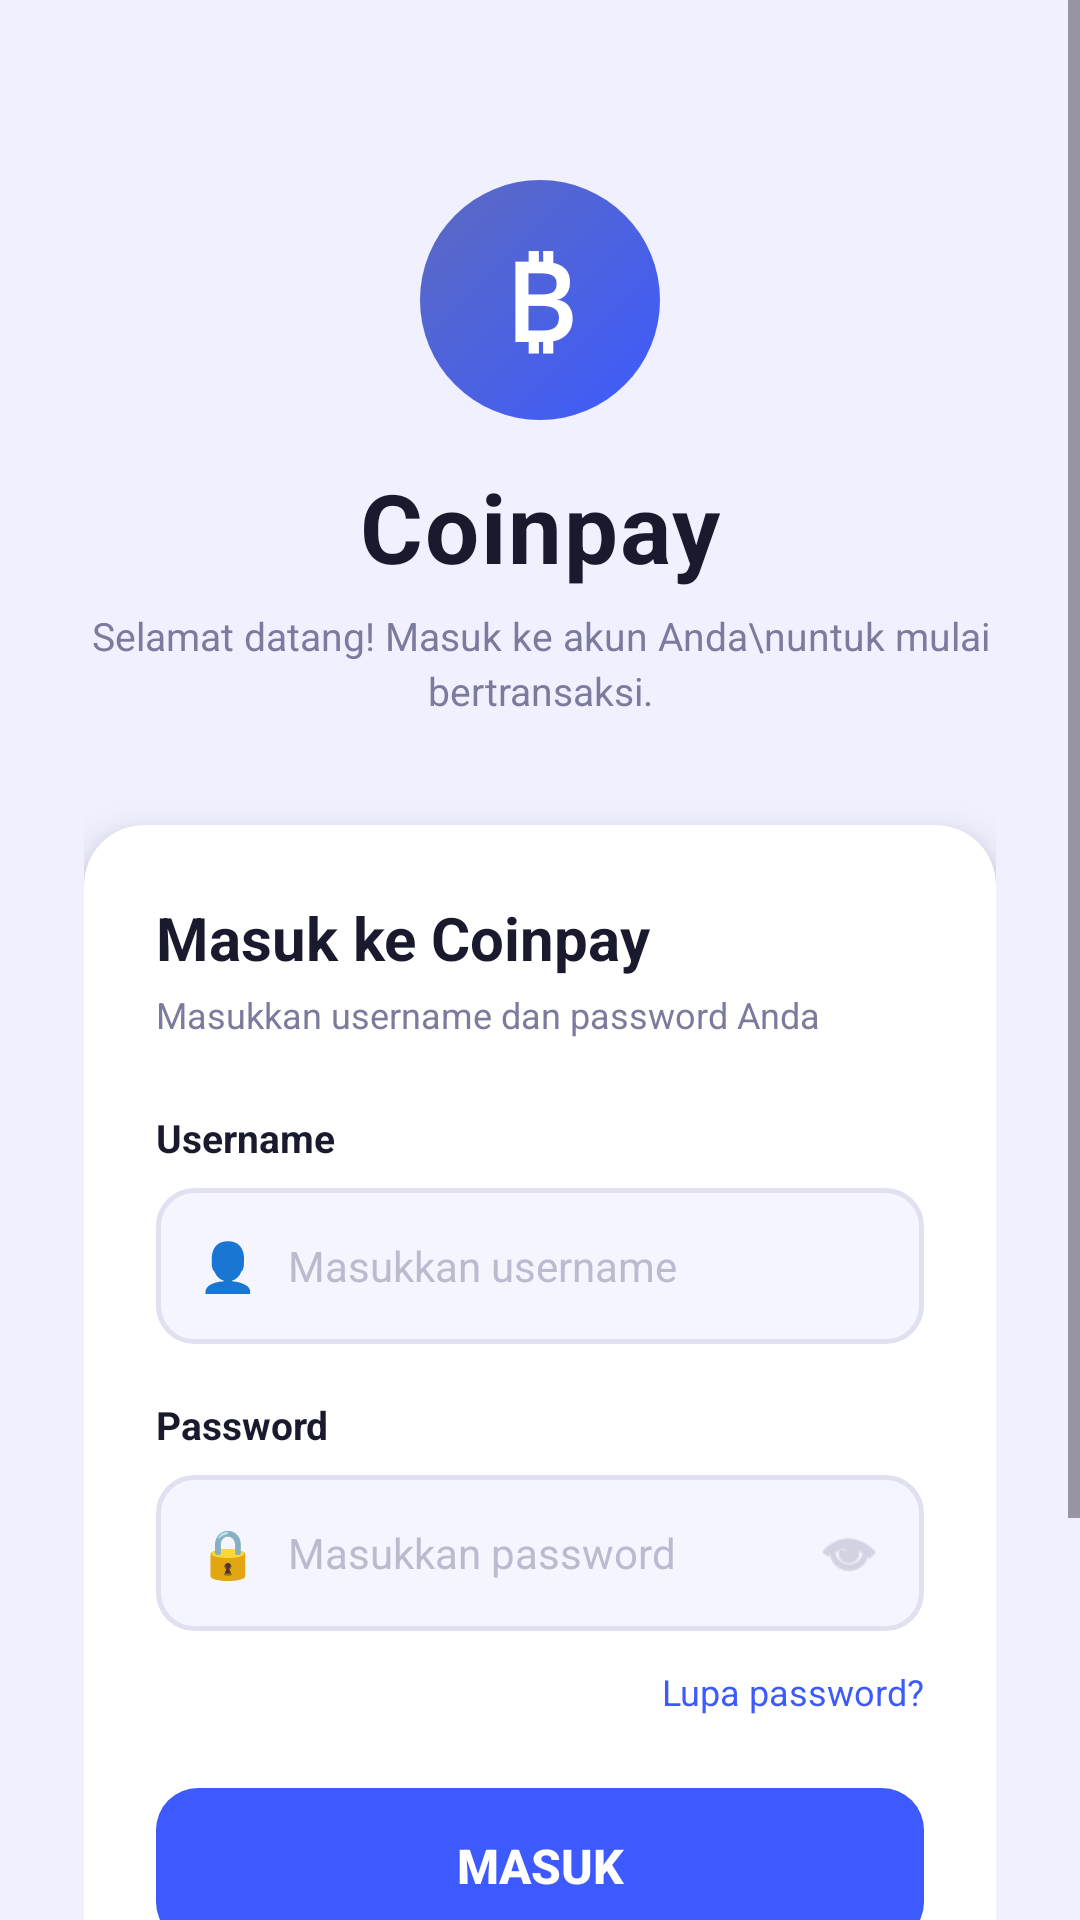

Icon click points for this 1080px x 1920px phone screenshot, format (x,y):
view: (849,1554)
